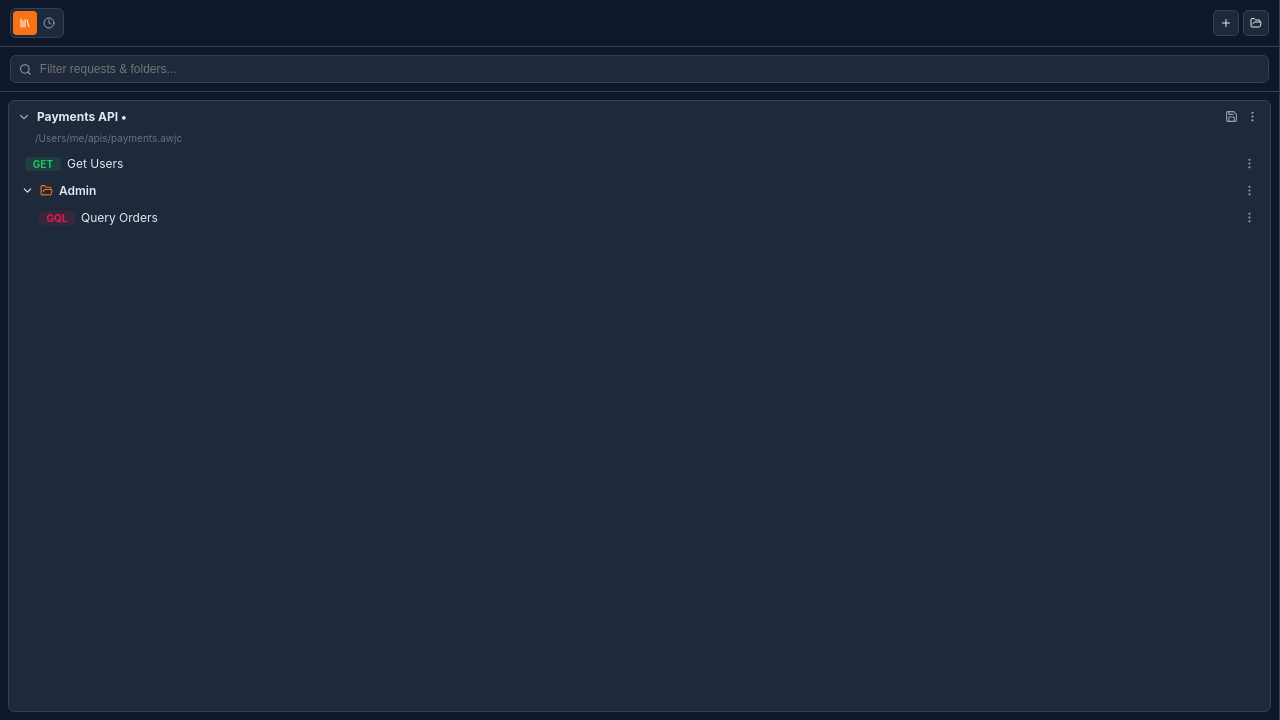
Test: CollectionSidebar › closes any open sidebar context menu when clicking outside or pressing Escape
The width and height of the screenshot is (1280, 720).
# Open folder context menu
Click the button with test id "item-menu-btn-fld_admin" at (1250, 190), box [1241, 182, 1258, 199]
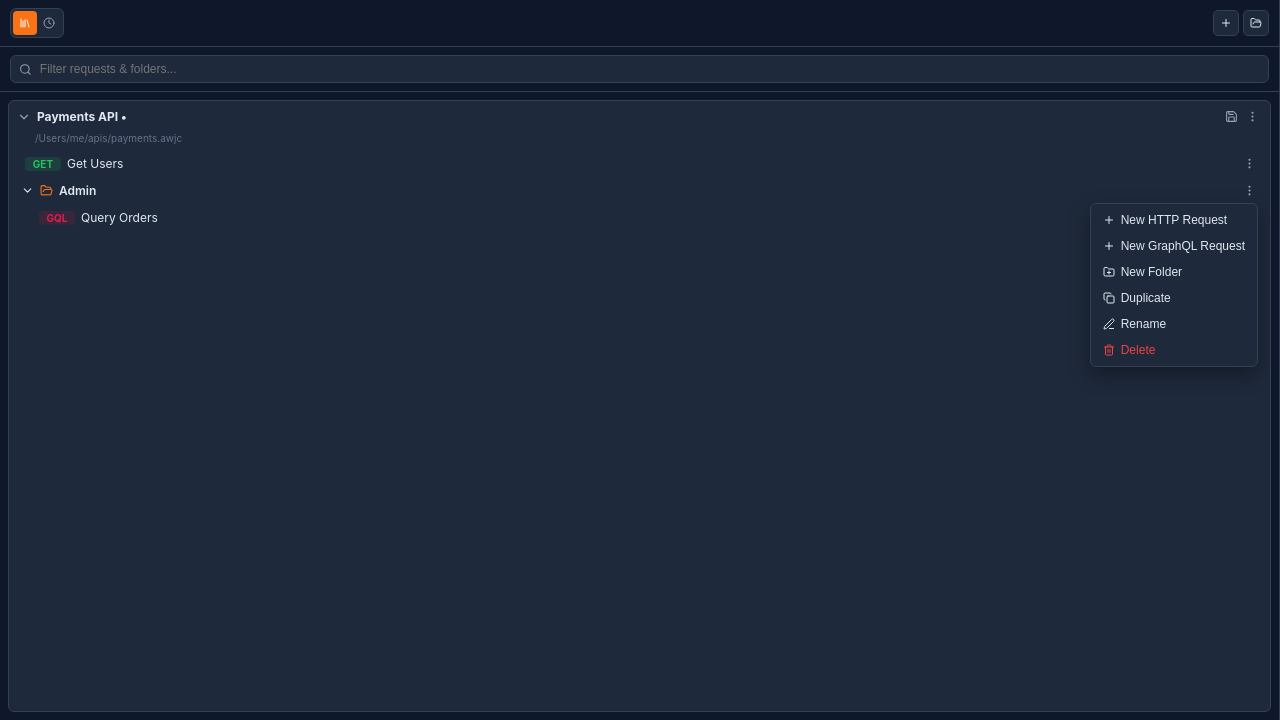
Expected: the element with test id "context-menu-fld_admin" is shown, [1090, 203, 1258, 367]
# Clicking outside closes the popup
Press the mouse on the element that starts with "Payments API" at (640, 360), box [0, 0, 1279, 719]
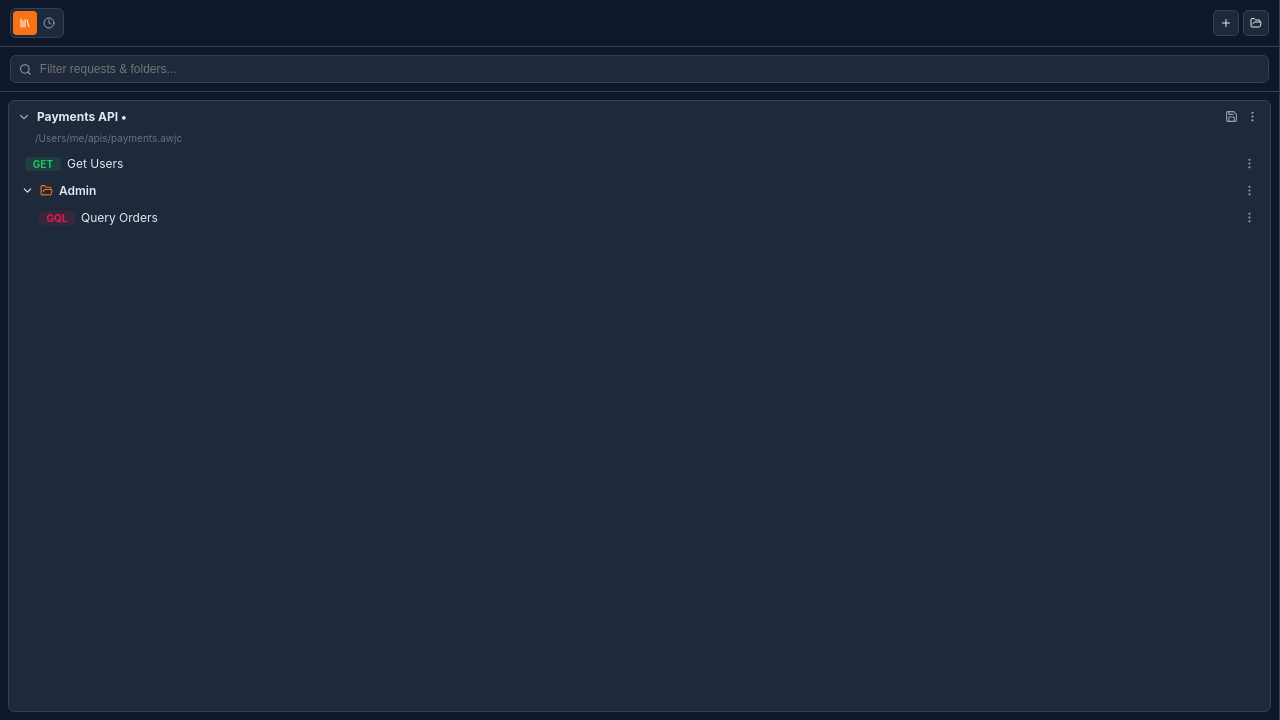
Expected: the element with test id "context-menu-fld_admin" is gone
# Reopen and press Escape to close
Click the button with test id "item-menu-btn-fld_admin" at (1250, 190), box [1241, 182, 1258, 199]
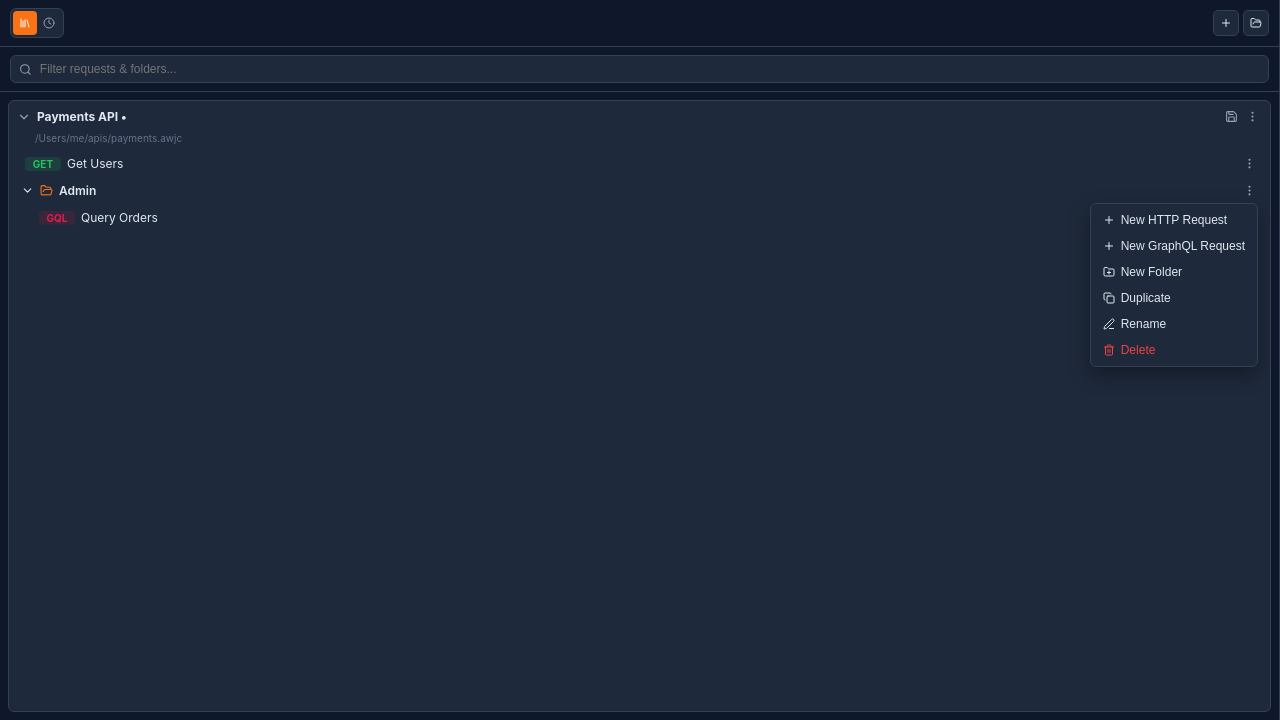
Expected: the element with test id "context-menu-fld_admin" is shown, [1090, 203, 1258, 367]
Press Escape
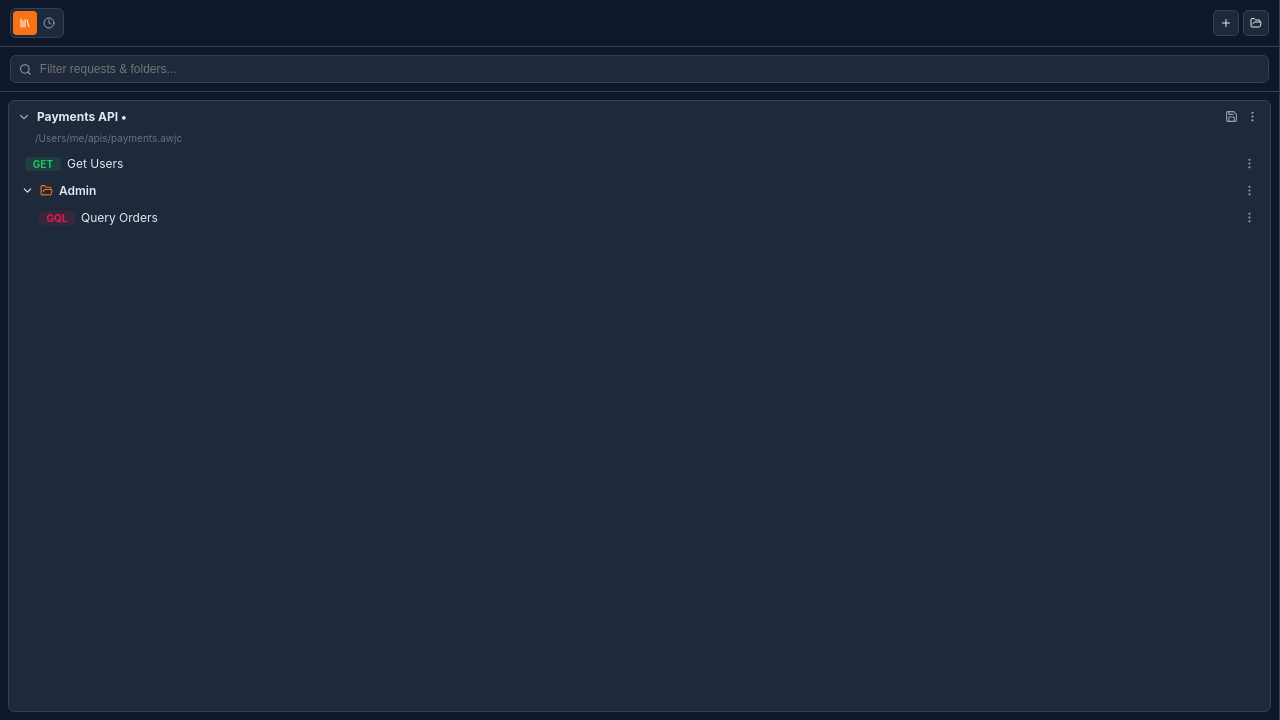
Expected: the element with test id "context-menu-fld_admin" is gone
